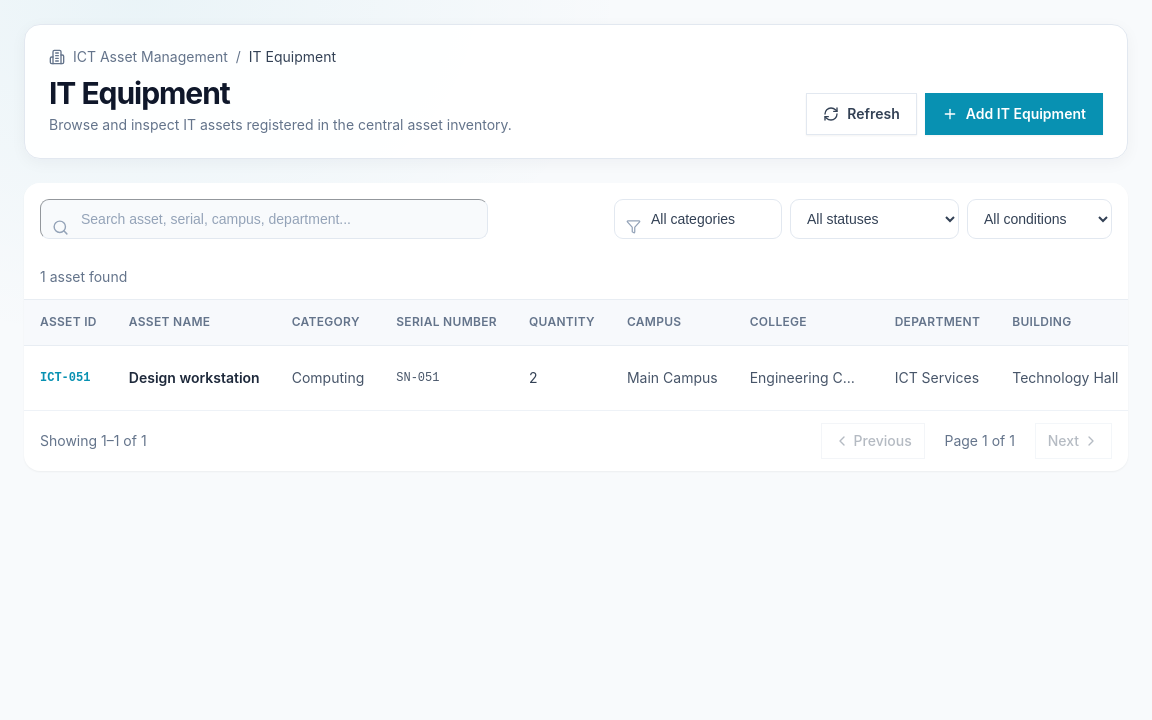
Test: ICTEquipment › keeps entered form values and explains duplicate serial errors
Expected: the text "Design workstation" is shown, [129, 368, 260, 388]
Click the button "Add IT Equipment" at [1014, 114], box [925, 93, 1103, 135]
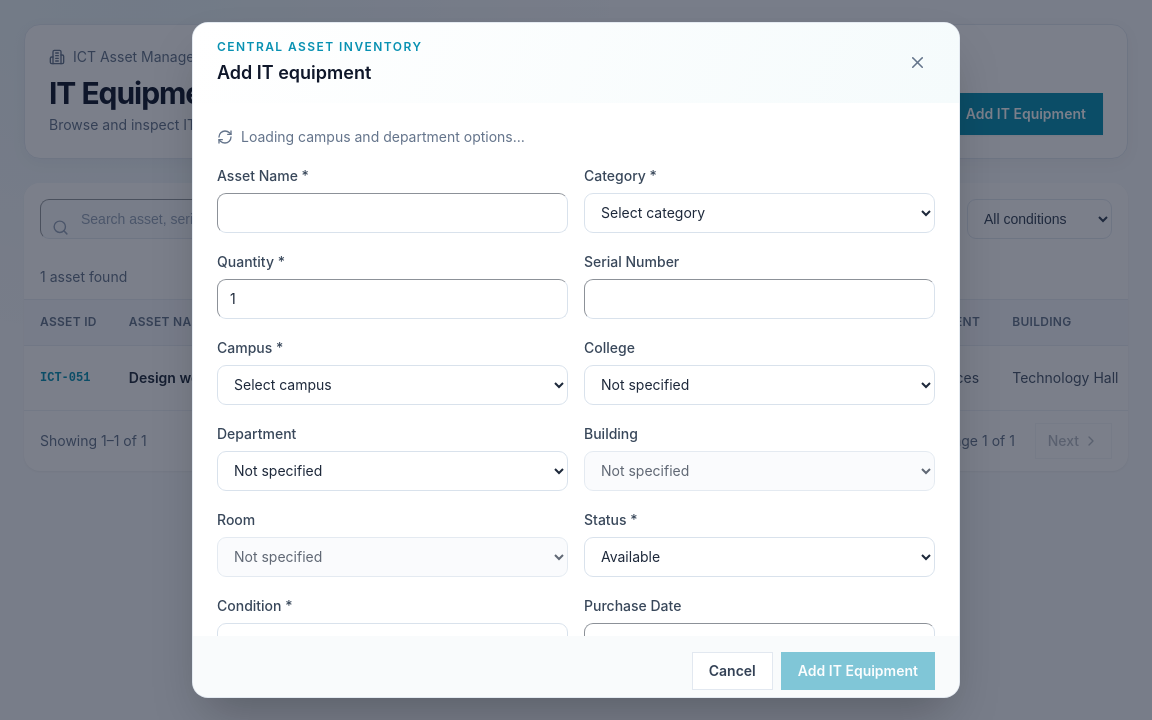
Expected: the dialog "Add IT equipment" is shown
Type "Replacement laptop" into the field labelled "Asset Name *" at [392, 213], box [217, 193, 568, 233]
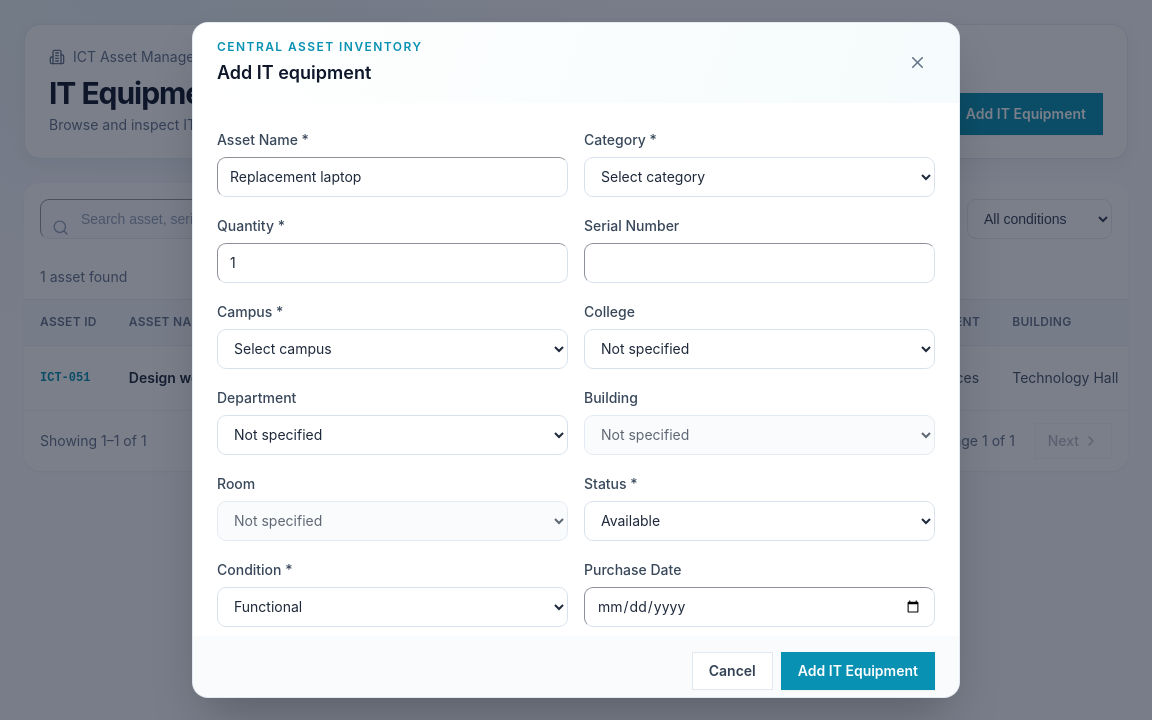
Select "Computing" in the dropdown labelled "Category *" at [760, 177], box [584, 157, 935, 197]
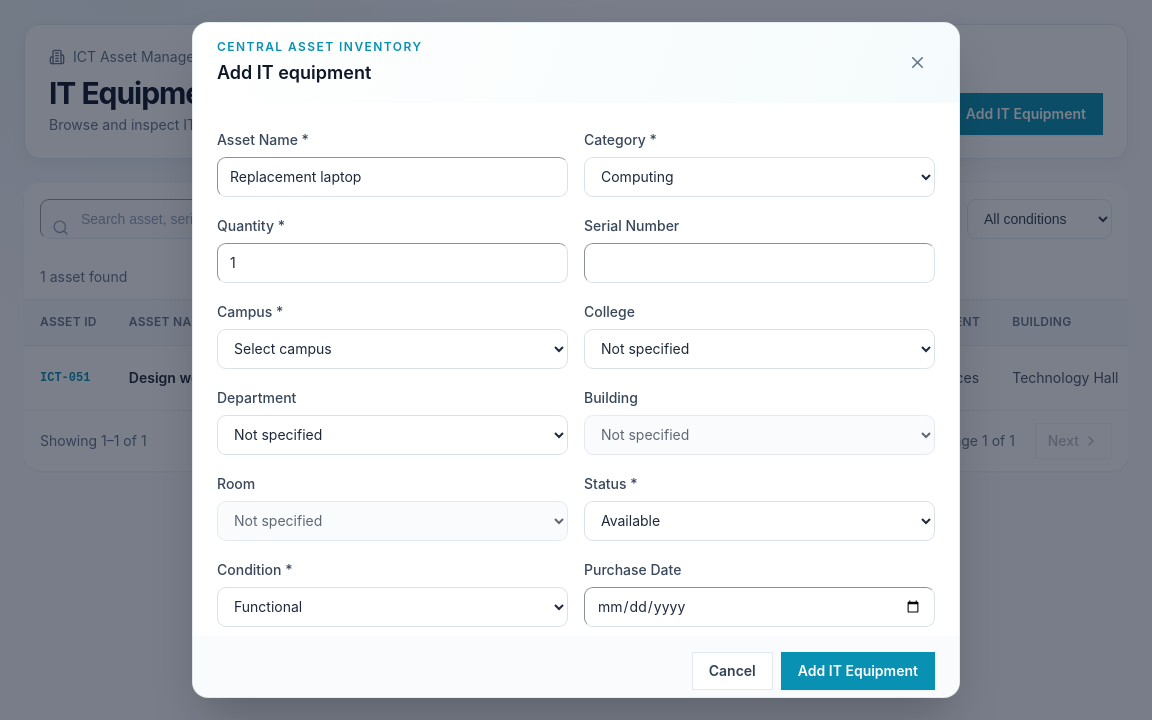
Type "SN-051" into the field labelled "Serial Number" at [760, 263], box [584, 243, 935, 283]
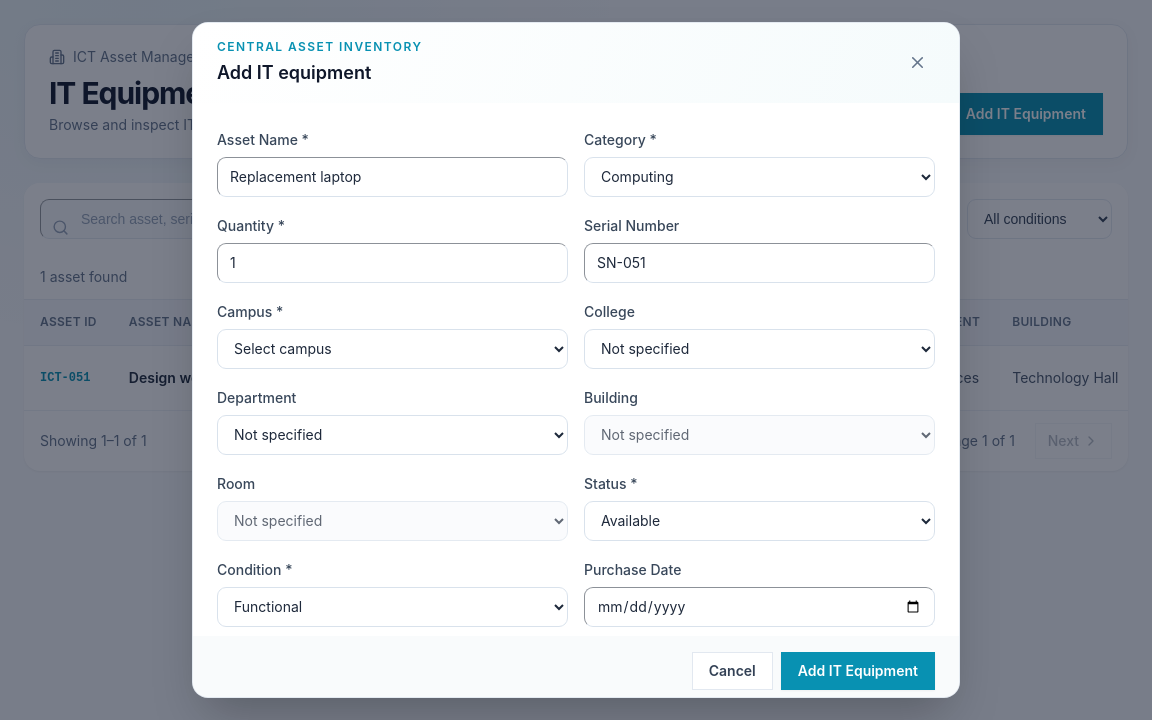
Select "Main Campus" in the dropdown labelled "Campus *" at [392, 349], box [217, 329, 568, 369]
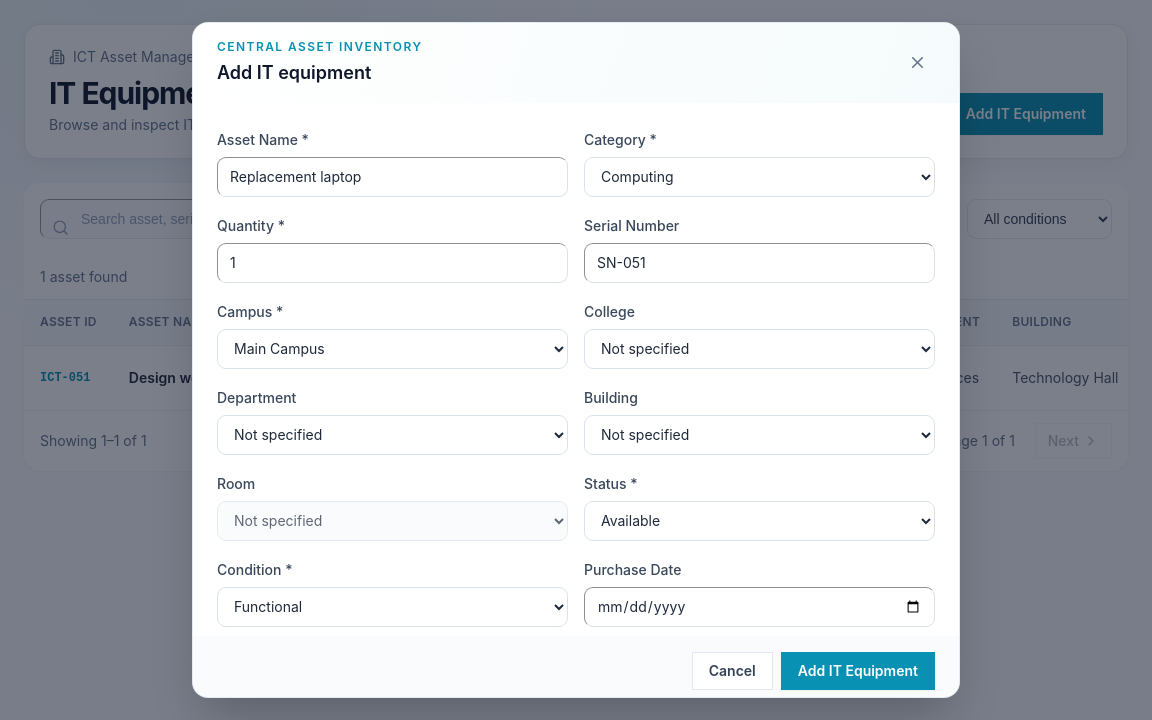
Click the button "Add IT Equipment" at [858, 671], box [781, 652, 935, 690]
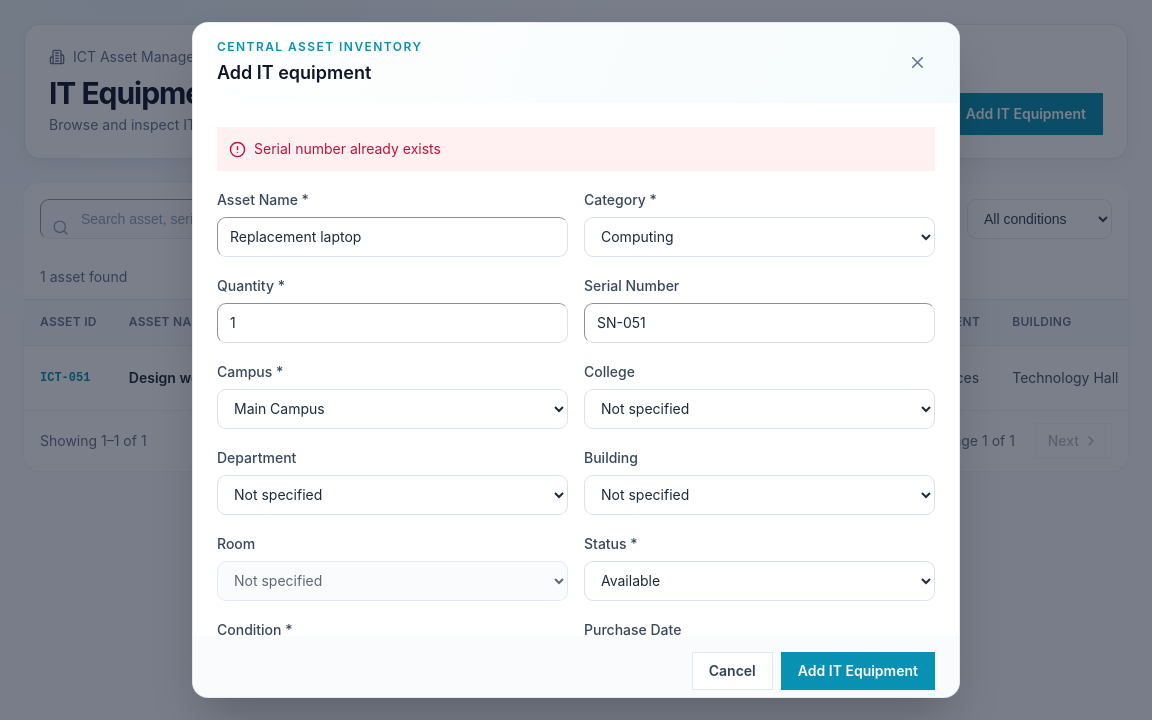
Expected: the text "Serial number already exists" is shown, [254, 139, 441, 159]
